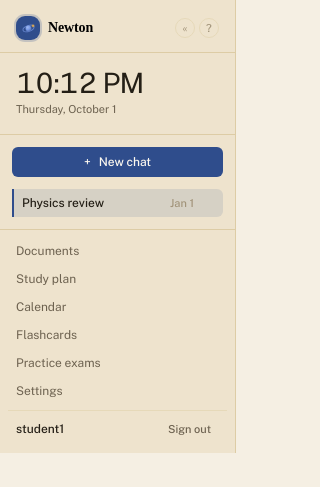
Test: Sidebar › expanding again restores the full session list
Click the button named "Collapse sidebar" at (185, 28), box [175,18,195,38]
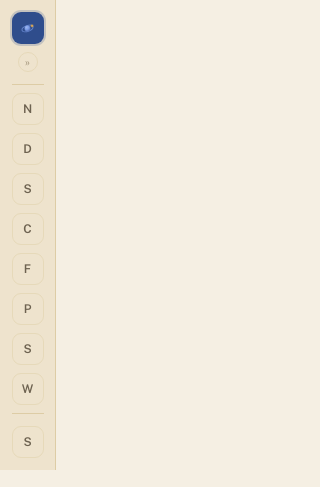
Click the button named "Expand sidebar" at (28, 62), box [18,52,38,72]
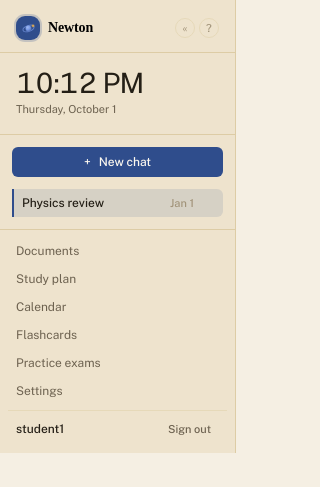
Check: the text "Physics review" is shown, box [22,196,104,210]
